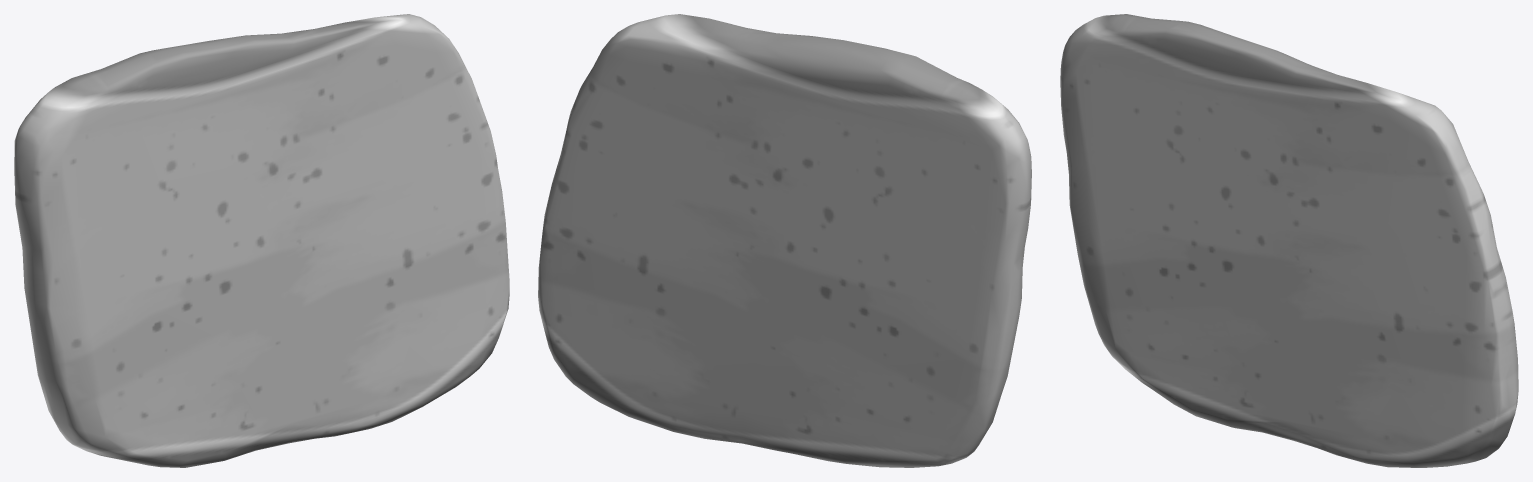
File: SM_UI_BGLobby.fbx
3 renders of one model, left to right at view 1: azimuth 30°, elevation 25°; view 2: azimuth 150°, elevation 25°; view 3: azimuth 330°, elevation 25°, orthographic. The views are drawn at different scales.
Visible parts, largest first — view 1: SM_UI_BGLobby_Players; view 2: SM_UI_BGLobby_Players; view 3: SM_UI_BGLobby_Players.
Part boxes in pixels (left/top/right/bottom): SM_UI_BGLobby_Players: left=14, top=14, right=509, bottom=467; SM_UI_BGLobby_Players: left=538, top=14, right=1031, bottom=467; SM_UI_BGLobby_Players: left=1060, top=14, right=1518, bottom=467.
Size of the model in its own units: 32.83 by 27.23 by 3.17.
